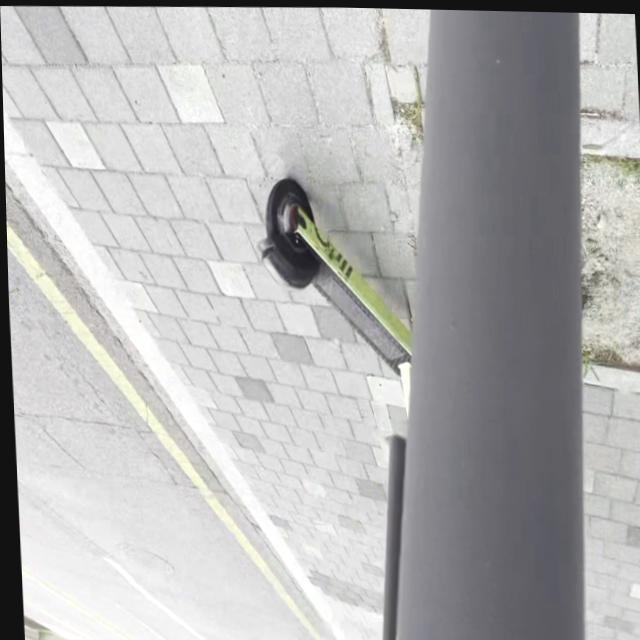kickboard_ok: (258, 179, 408, 352)
